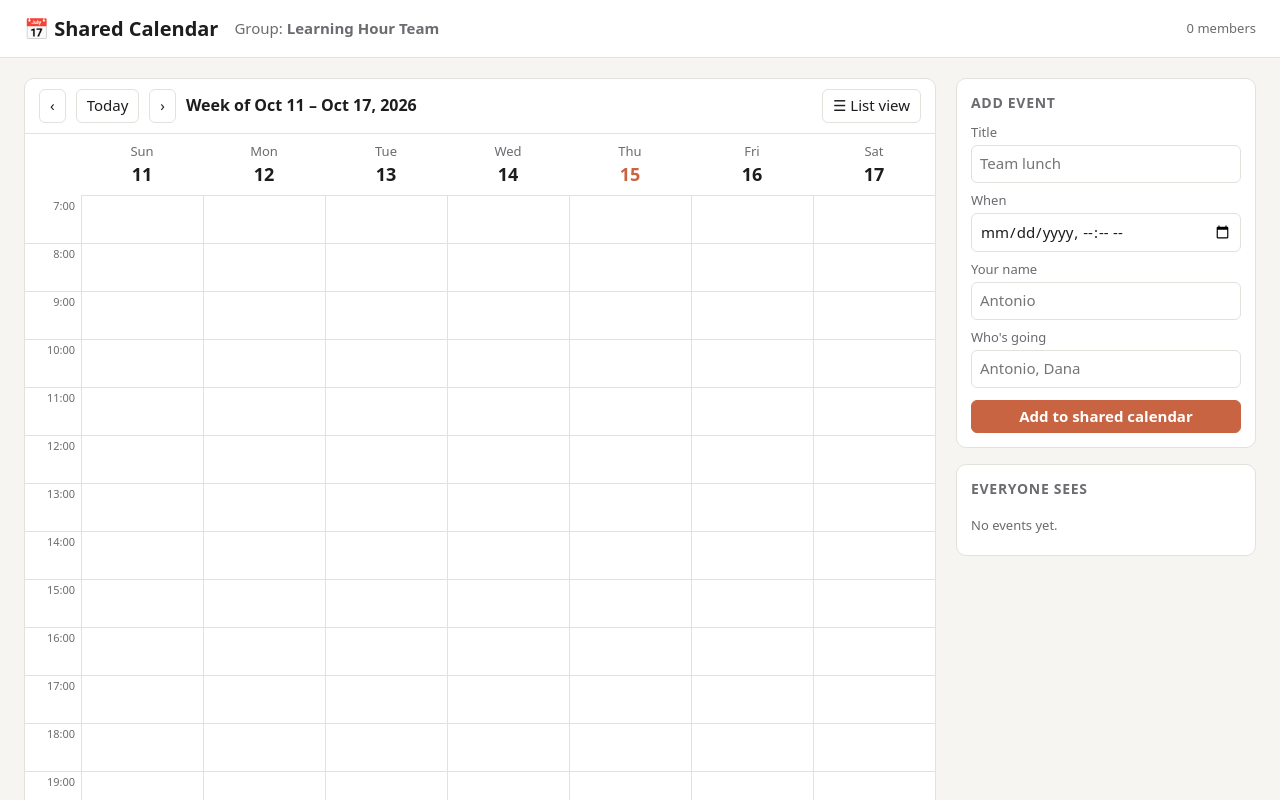
Test case: Colors per person › puts a square of the adder's color next to their name in the feed
Type "Austin City Limits" into the field with test id "title" at [1106, 164], box top-left (971, 145), bottom-right (1241, 183)
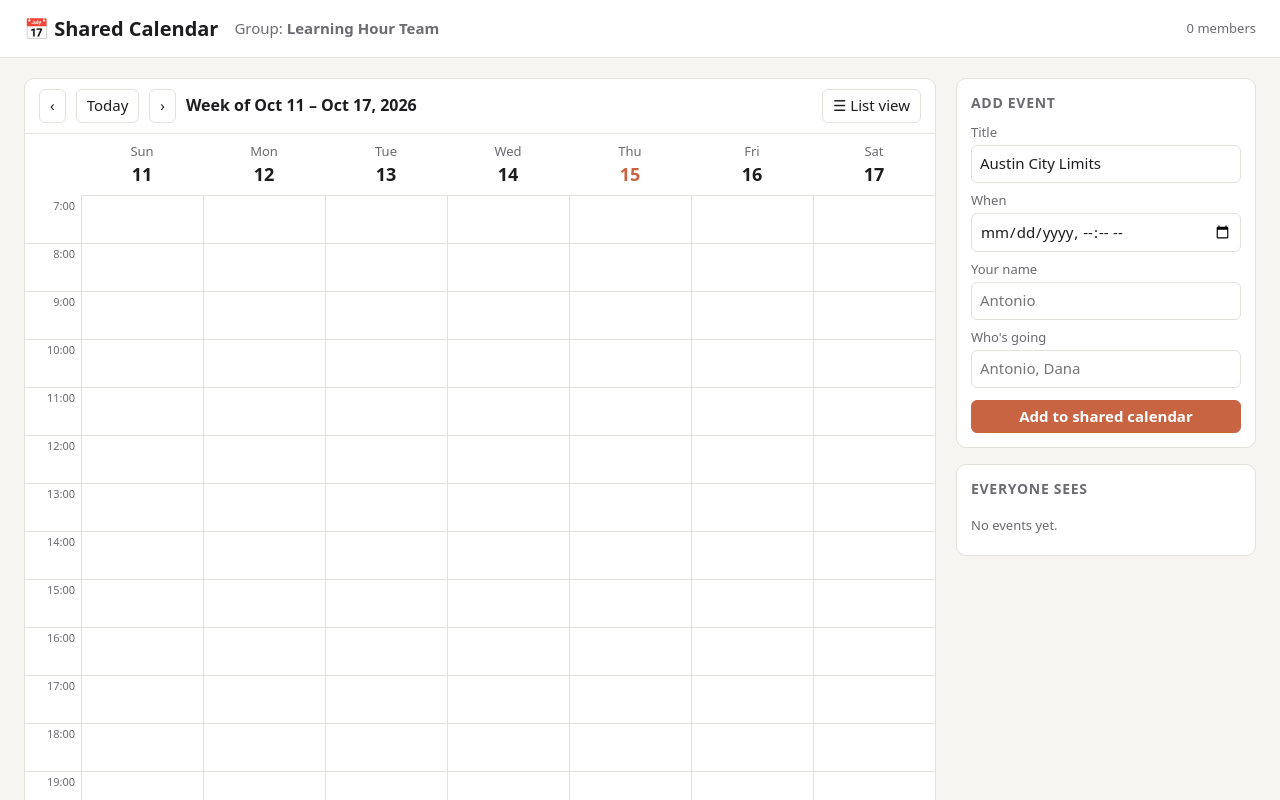
Type "2026-10-17T18:00" into the field with test id "start" at [1106, 233], box top-left (971, 213), bottom-right (1241, 252)
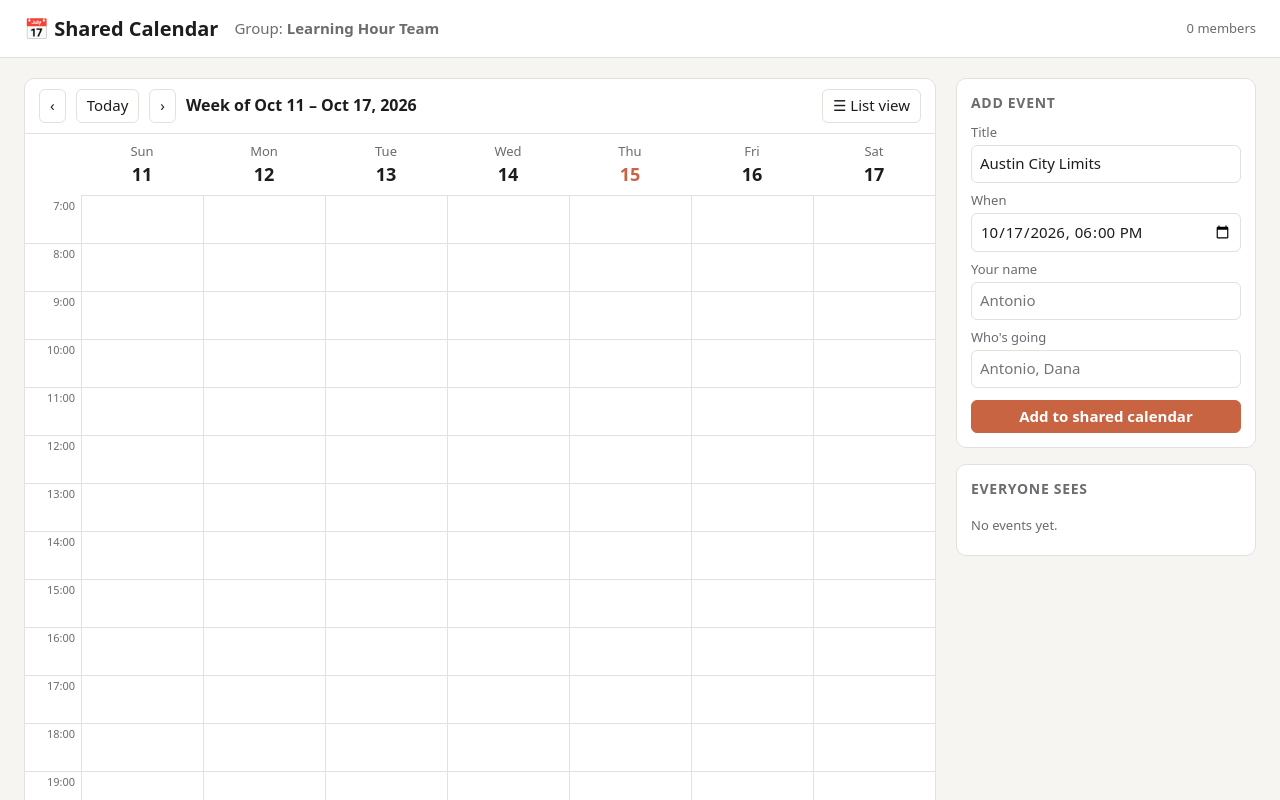
Type "Llewellyn" into the field with test id "who" at [1106, 301], box top-left (971, 282), bottom-right (1241, 320)
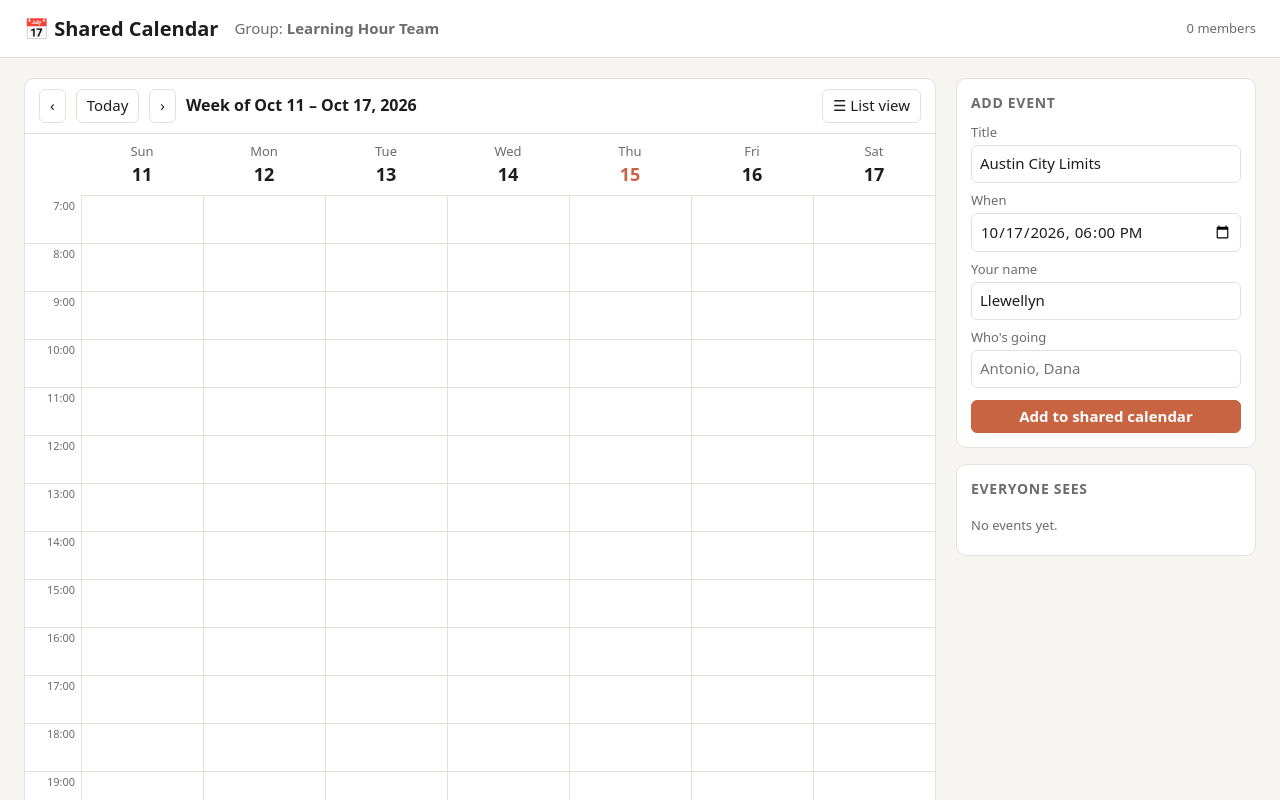
Submit the form, box top-left (971, 123), bottom-right (1241, 433)
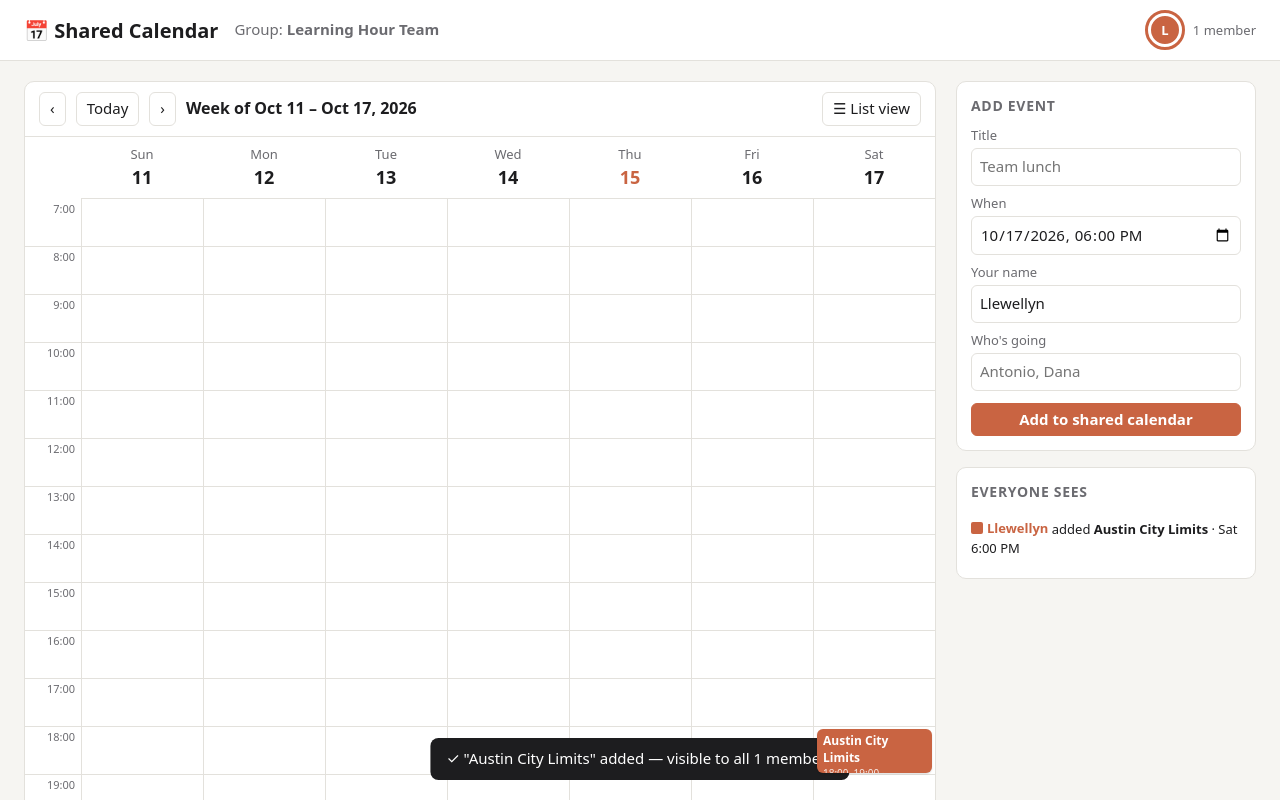
Check: the element with test id "person-square" is shown, box top-left (971, 522), bottom-right (983, 534)
